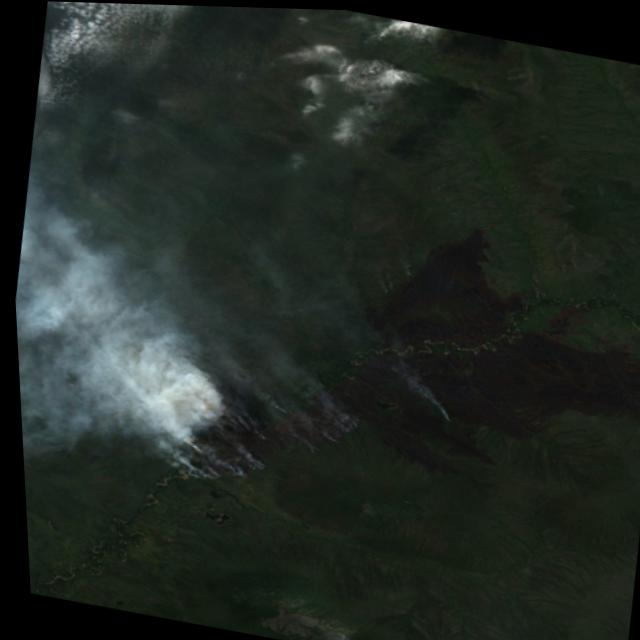fire: (146, 358, 370, 515)
